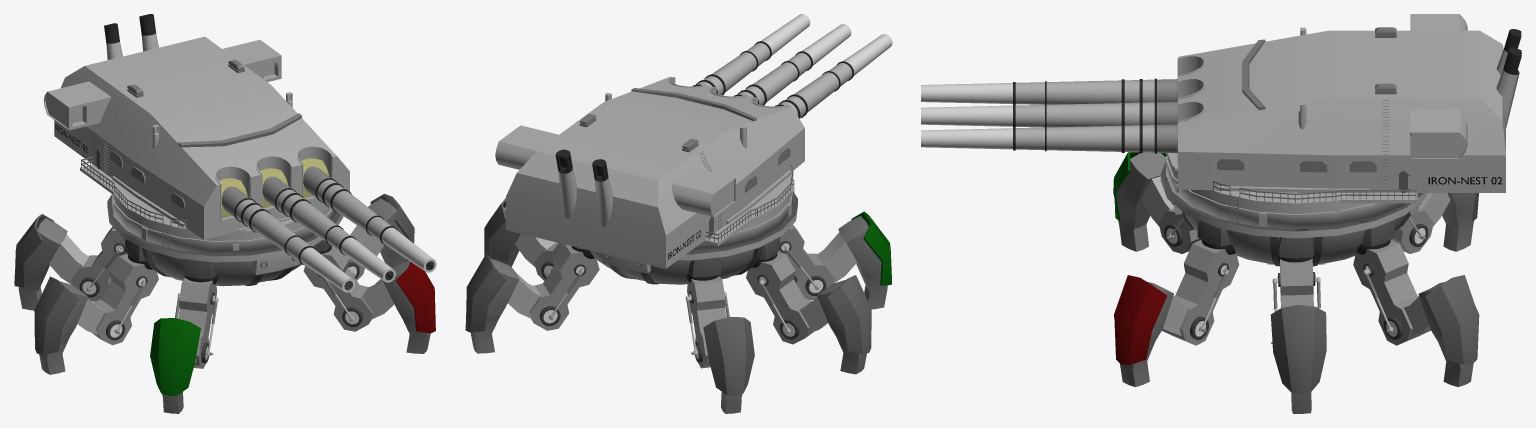
File: turret.obj
3 renders of one model, left to right at view 1: azimuth 30°, elevation 25°; view 2: azimuth 150°, elevation 25°; view 3: azimuth 270°, elevation 25°, orthographic. The views are drawn at different scales.
Parts seen in each view (by area): view 1: 162421, 45582, 30524, 2; view 2: 162421, 45582, 30524, 2; view 3: 162421, 45582, 30524, 2.
Part boxes in pixels (x1=…): 162421: x1=43, y1=14, x2=349, y2=254; 45582: x1=14, y1=193, x2=435, y2=413; 30524: x1=222, y1=166, x2=436, y2=292; 2: x1=107, y1=194, x2=343, y2=286; 162421: x1=495, y1=76, x2=804, y2=268; 45582: x1=465, y1=198, x2=891, y2=413; 30524: x1=692, y1=14, x2=892, y2=118; 2: x1=575, y1=192, x2=797, y2=284; 162421: x1=1166, y1=14, x2=1521, y2=229; 45582: x1=1113, y1=152, x2=1479, y2=413; 30524: x1=921, y1=78, x2=1177, y2=153; 2: x1=1160, y1=161, x2=1426, y2=266.
Size of the model in its own units: 0.6537 by 0.3976 by 0.79.
